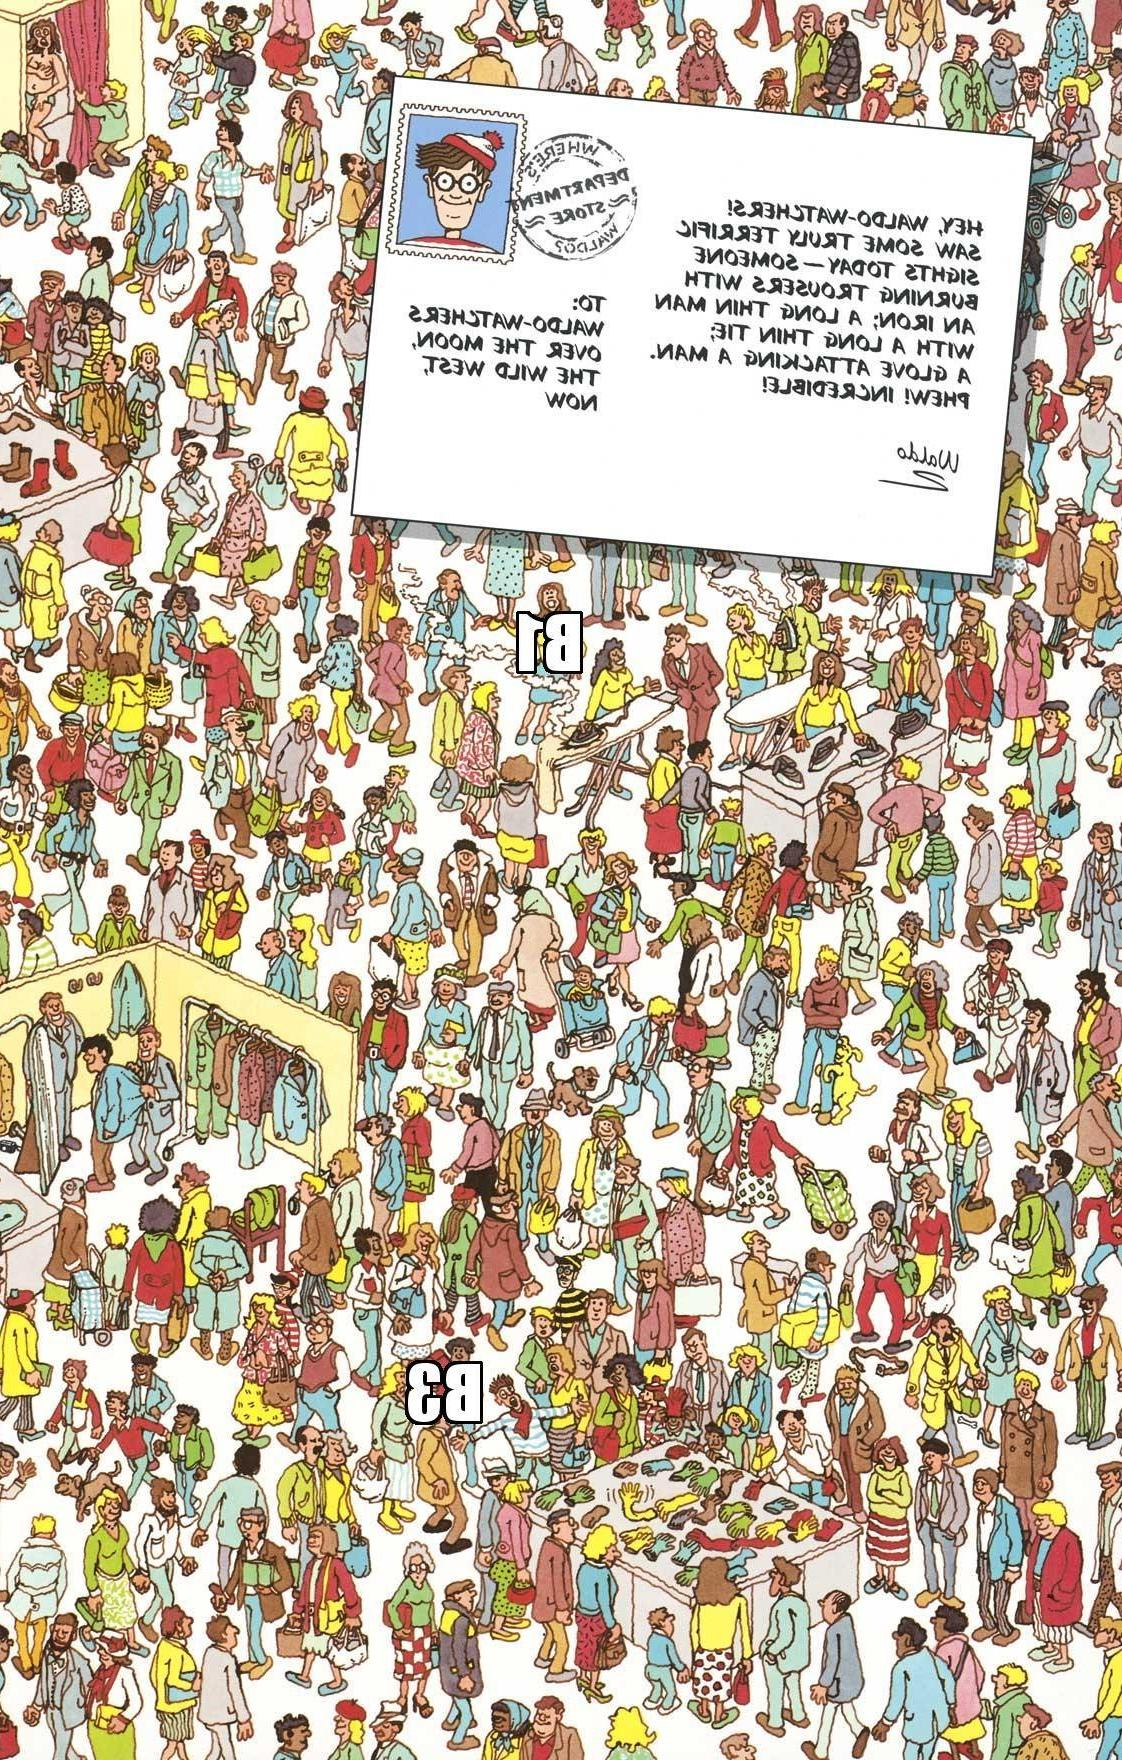waldos: (395, 123, 507, 253)
